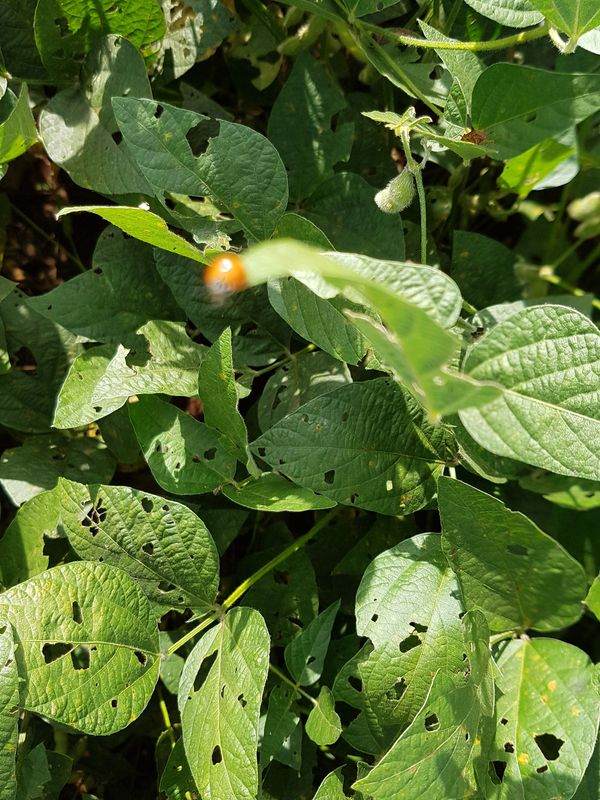Coccinellidae: (191, 244, 256, 317)
Euschistus_heros_adulto: (455, 121, 498, 158)
